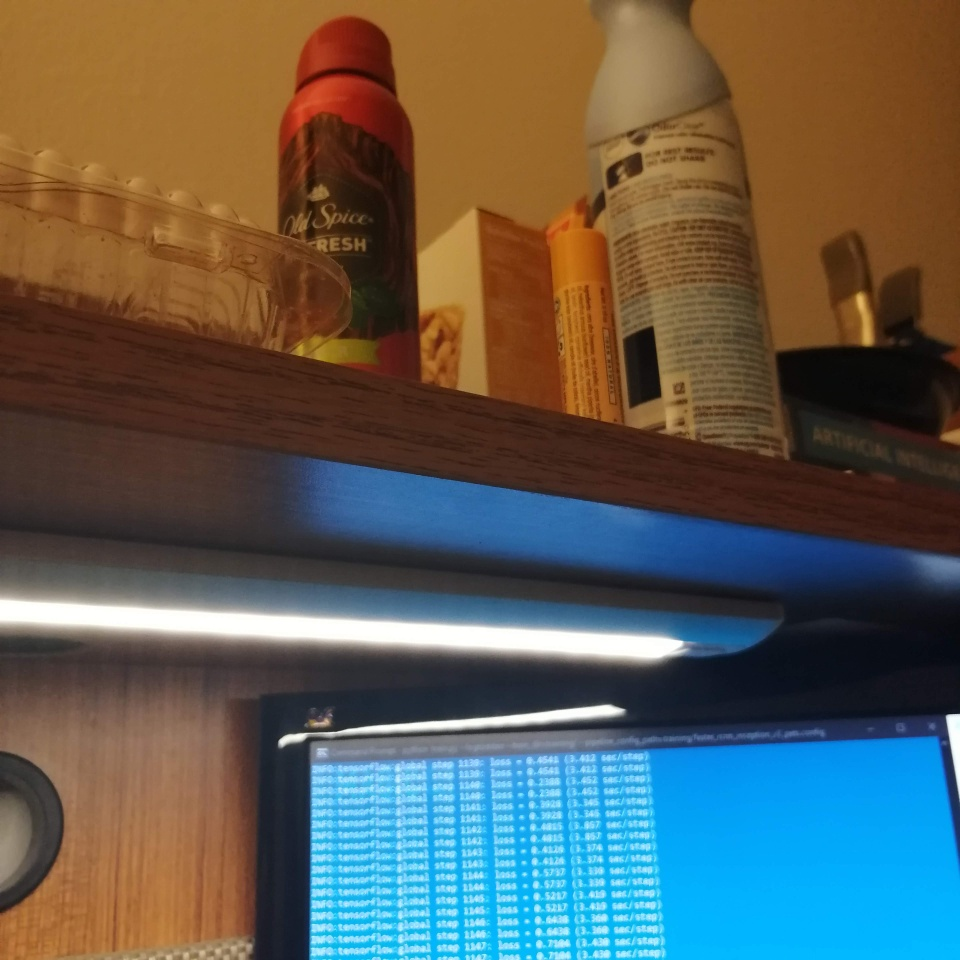chapstick: (548, 229, 626, 434)
